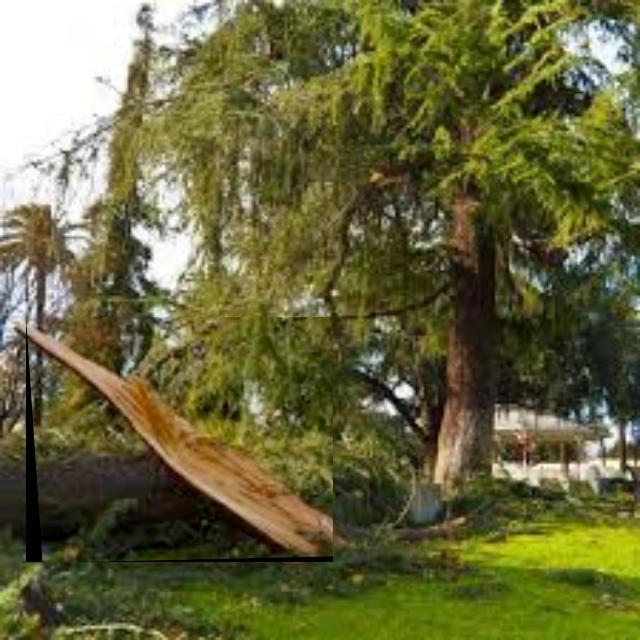fallen_tree: (26, 317, 334, 563)
